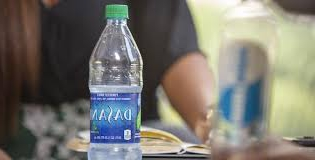plastic water bottle: (83, 2, 148, 160)
